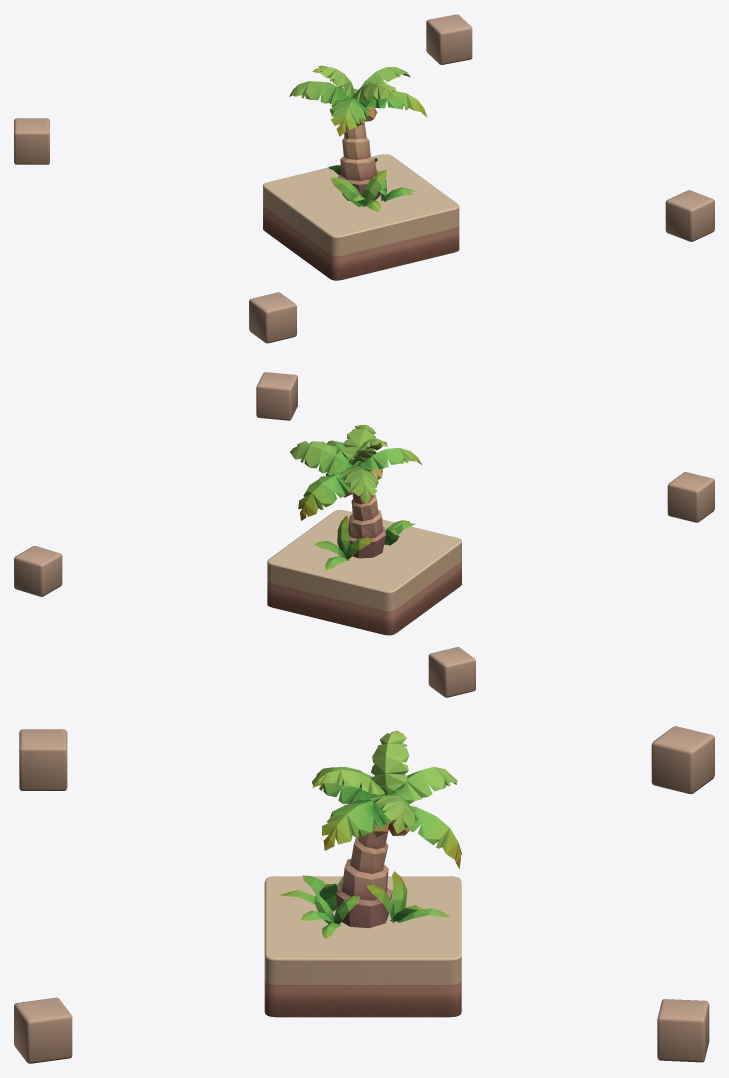
File: Props.fbx
The picture shows the model from 3 angles, top to bottom: view 1: azimuth 30°, elevation 25°; view 2: azimuth 150°, elevation 25°; view 3: azimuth 270°, elevation 25°; orthographic projection. The views are drawn at different scales.
Parts seen in each view (by area): view 1: Box02, yezishu02, Box1-6 (2), Box1-6 (4), Box1-6 (1), Box1-6 (3); view 2: Box02, yezishu02, Box1-6 (1), Box1-6 (4), Box1-6 (3), Box1-6 (2); view 3: Box02, yezishu02, Box1-6 (3), Box1-6 (2), Box1-6 (1), Box1-6 (4).
Part boxes in pixels (<box>): Box02: <box>263,154,459,280</box>; yezishu02: <box>289,65,427,211</box>; Box1-6 (2): <box>665,190,714,241</box>; Box1-6 (4): <box>249,292,296,343</box>; Box1-6 (1): <box>426,14,472,64</box>; Box1-6 (3): <box>14,118,49,164</box>; Box02: <box>267,510,461,635</box>; yezishu02: <box>290,425,422,569</box>; Box1-6 (1): <box>14,546,62,596</box>; Box1-6 (4): <box>667,472,714,522</box>; Box1-6 (3): <box>428,647,475,697</box>; Box1-6 (2): <box>256,372,297,420</box>; Box02: <box>264,876,461,1017</box>; yezishu02: <box>280,730,462,938</box>; Box1-6 (3): <box>651,726,714,794</box>; Box1-6 (2): <box>14,997,72,1063</box>; Box1-6 (1): <box>657,999,709,1062</box>; Box1-6 (4): <box>19,729,67,790</box>.
Size of the model in its own units: 28.47 by 10.12 by 28.47.
Materials: 3 (3 with a texture image).
